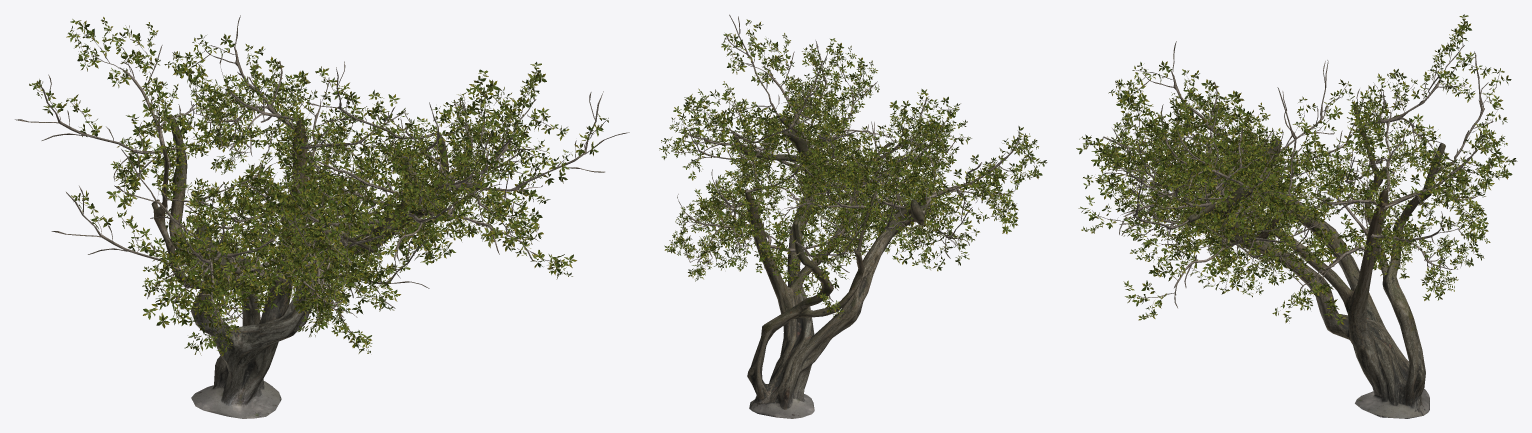
Rendered from island_tree_02.glb.
3 views of the same model, side by side, from view 1: azimuth 30°, elevation 25°; view 2: azimuth 150°, elevation 25°; view 3: azimuth 270°, elevation 25° (orthographic). The views are drawn at different scales.
Visible parts, largest first — view 1: island_tree_02_LOD0; view 2: island_tree_02_LOD0; view 3: island_tree_02_LOD0.
Boxes of the visible parts, bbox=[...] form: island_tree_02_LOD0: bbox=[15, 15, 629, 418]; island_tree_02_LOD0: bbox=[659, 14, 1047, 418]; island_tree_02_LOD0: bbox=[1076, 14, 1517, 418].
Size of the model in its own units: 4.21 by 3.41 by 4.07.
Materials: 3 (3 with a texture image).
